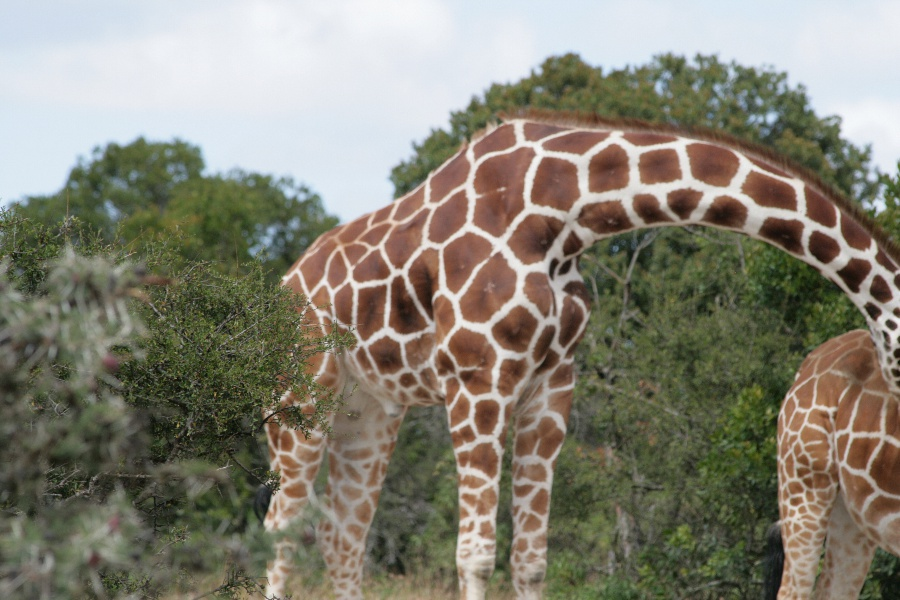giraffe: (238, 105, 899, 598), (770, 319, 899, 598)
